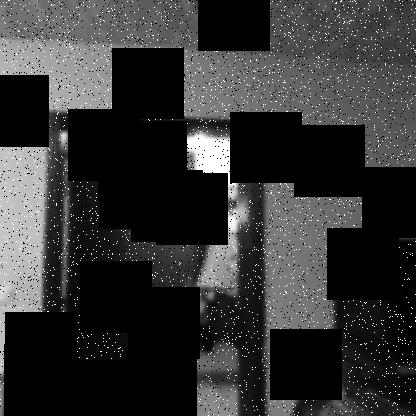Porte: (38, 110, 270, 416)
